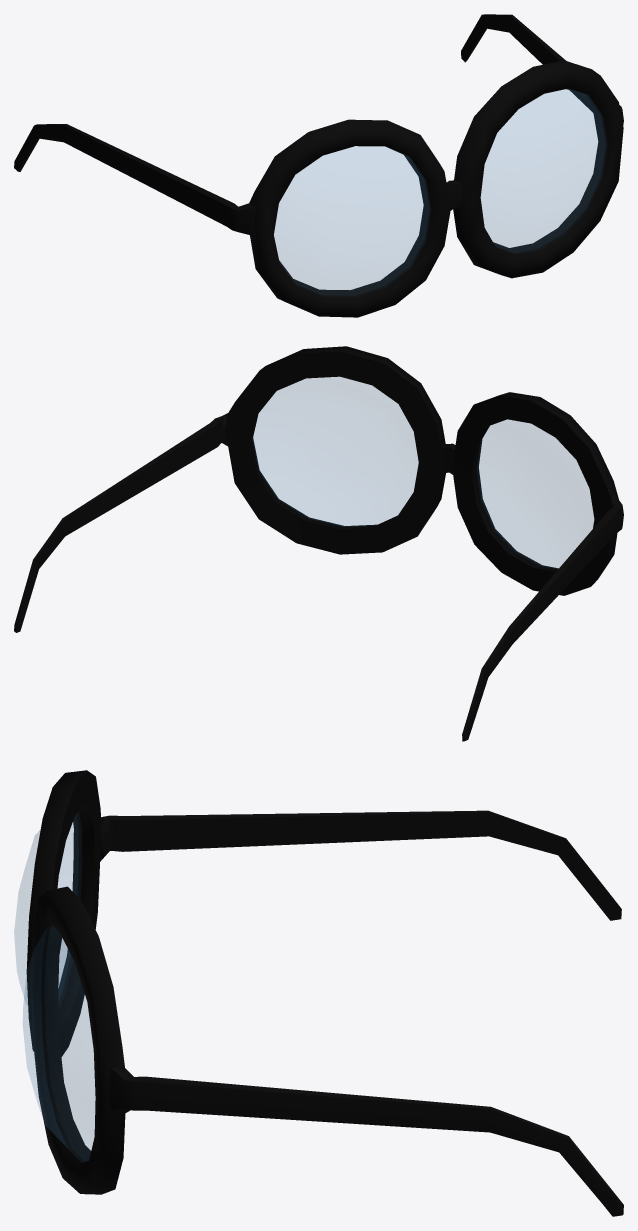
Rendered from GlassesRound.FBX.
3 renders of one model, top to bottom at view 1: azimuth 30°, elevation 25°; view 2: azimuth 150°, elevation 25°; view 3: azimuth 270°, elevation 25°, orthographic. The views are drawn at different scales.
Visible parts, largest first — view 1: GlassesRound; view 2: GlassesRound; view 3: GlassesRound.
Part boxes in pixels (left/top/right/bottom): GlassesRound: left=14, top=14, right=623, bottom=317; GlassesRound: left=14, top=346, right=623, bottom=741; GlassesRound: left=14, top=770, right=623, bottom=1216.
Size of the model in its own units: 29.83 by 12.75 by 25.51.
